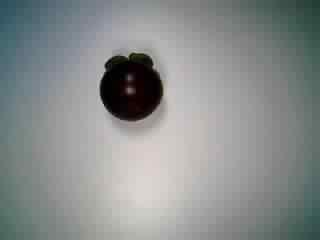mangosteen: (93, 48, 171, 124)
